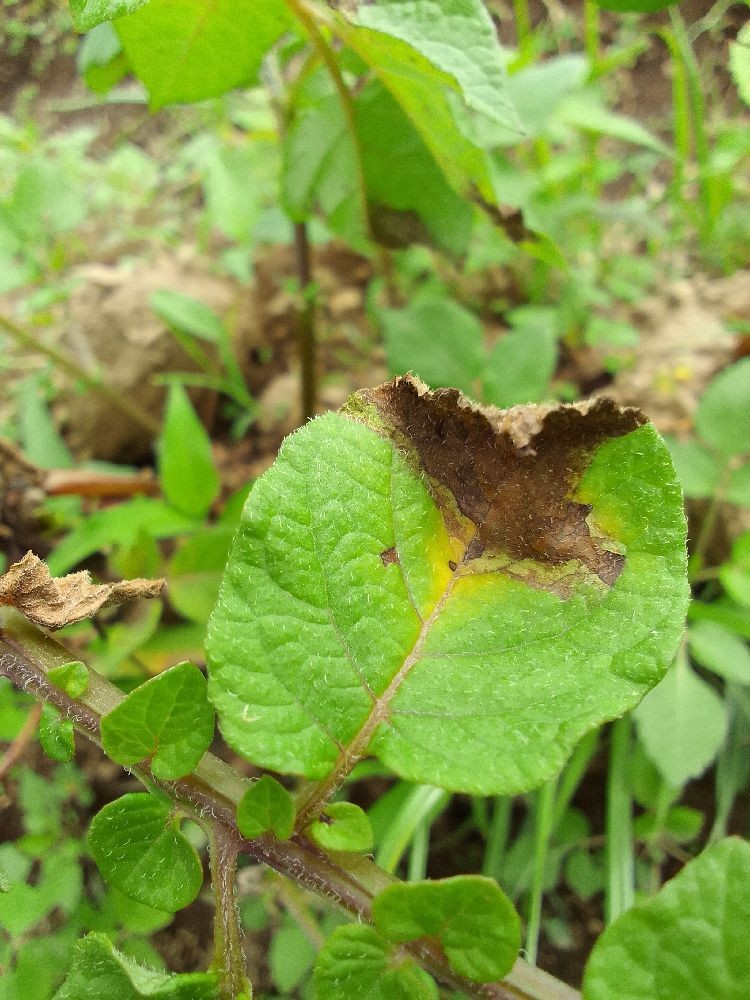late_blight: (0, 10, 189, 179), (514, 850, 622, 1000), (673, 486, 750, 612)
